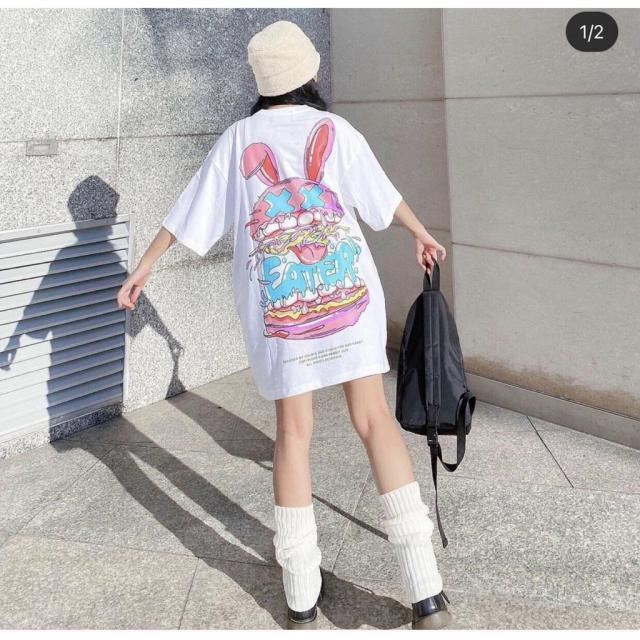Shirt: (160, 107, 398, 397)
